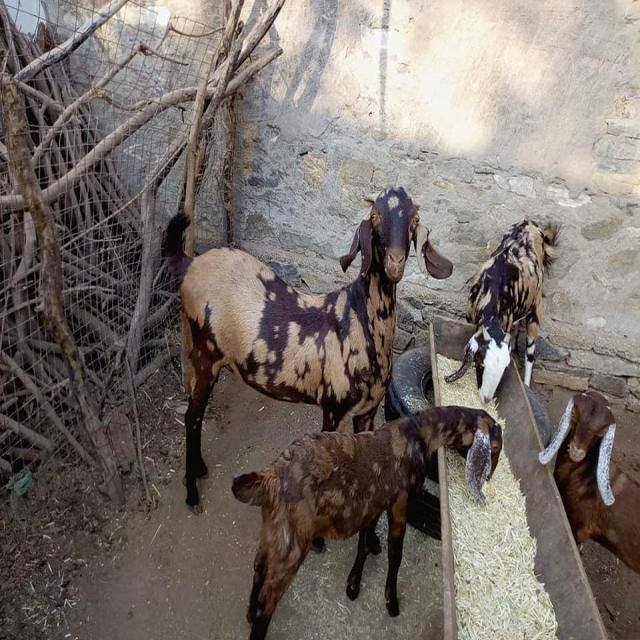Goat: (160, 183, 453, 513), (230, 404, 502, 638), (444, 217, 563, 404), (537, 389, 639, 575)
